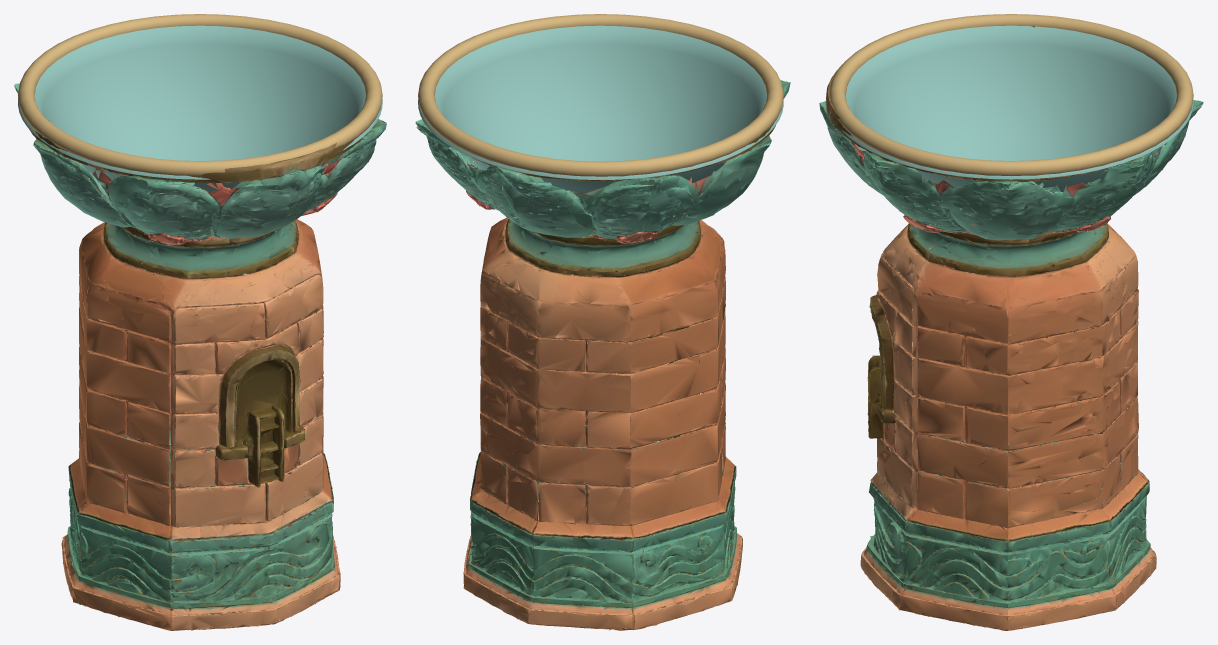
File: act1_catcher_rodin_hollow.glb
3 views of the same model, side by side, from view 1: azimuth 30°, elevation 25°; view 2: azimuth 150°, elevation 25°; view 3: azimuth 270°, elevation 25° (orthographic).
Parts seen in each view (by area): view 1: SM_Act1_CatcherHollow, SM_Act1_CatcherInnerBowl, SM_Act1_CatcherRimRing; view 2: SM_Act1_CatcherHollow, SM_Act1_CatcherInnerBowl, SM_Act1_CatcherRimRing; view 3: SM_Act1_CatcherHollow, SM_Act1_CatcherInnerBowl, SM_Act1_CatcherRimRing.
Boxes of the visible parts, x1,y1,x2,y2 form: SM_Act1_CatcherHollow: [14, 83, 386, 630]; SM_Act1_CatcherInnerBowl: [18, 25, 382, 217]; SM_Act1_CatcherRimRing: [18, 14, 382, 175]; SM_Act1_CatcherHollow: [415, 80, 790, 630]; SM_Act1_CatcherInnerBowl: [418, 25, 783, 220]; SM_Act1_CatcherRimRing: [418, 14, 783, 176]; SM_Act1_CatcherHollow: [819, 26, 1203, 630]; SM_Act1_CatcherInnerBowl: [829, 25, 1193, 219]; SM_Act1_CatcherRimRing: [830, 14, 1193, 176].
Size of the model in its own units: 0.733 by 1.01 by 0.7287.
Materials: 3 (1 with a texture image).
